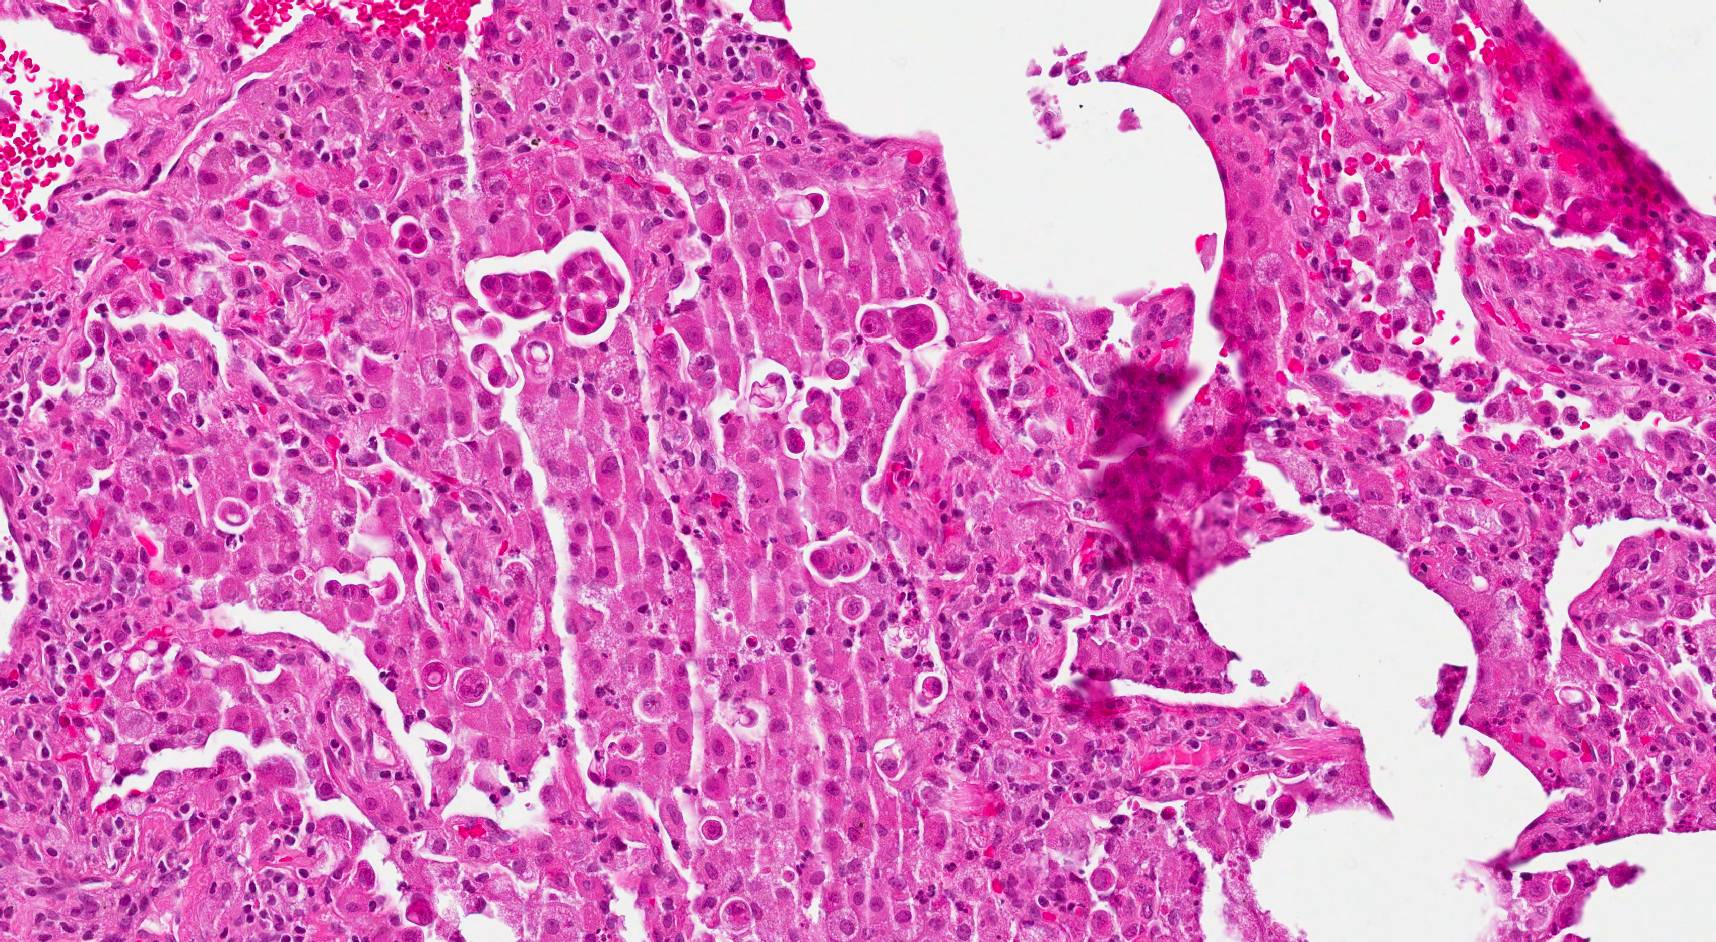stas: (557, 248, 625, 337), (479, 271, 561, 335), (857, 301, 944, 355), (806, 532, 876, 582)
